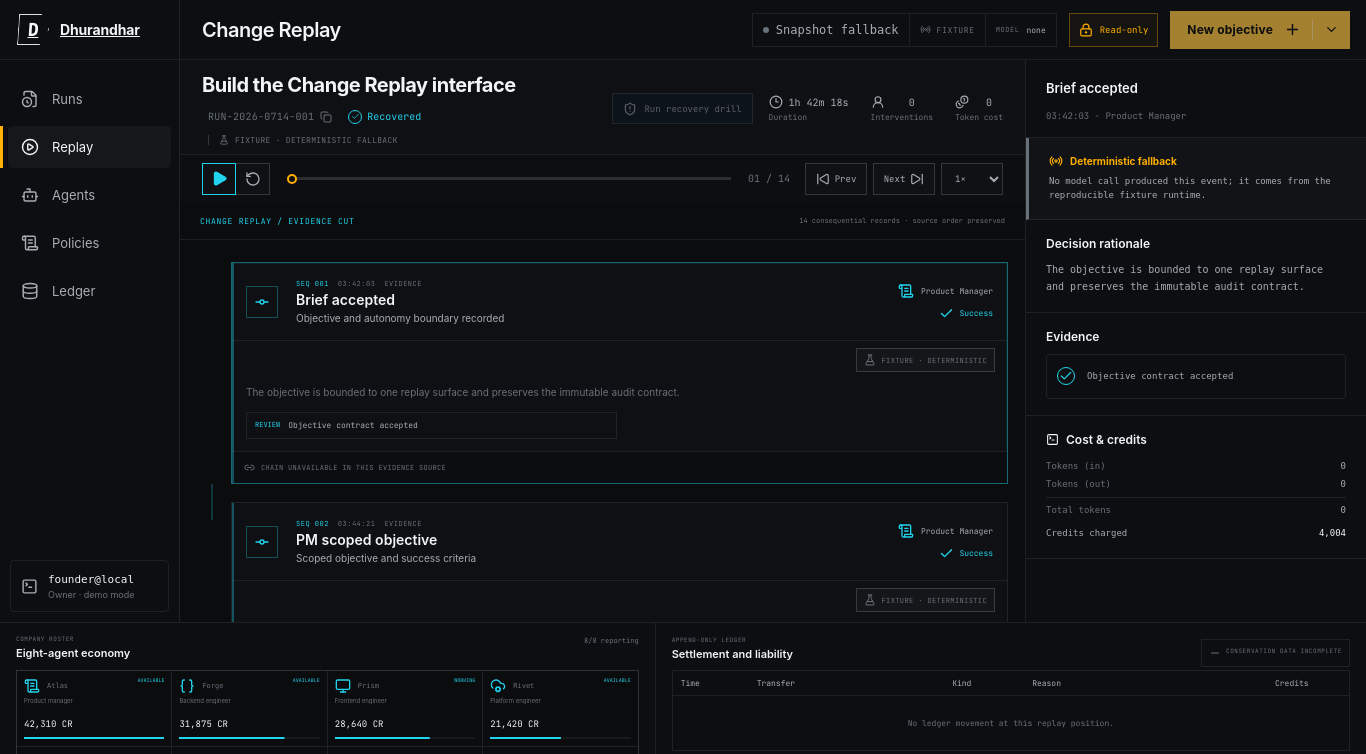
Test case: Dhurandhar replay › shows the complete eight-agent company with capabilities and learned memory
Click the button "Agents". click: (90, 195)
box: top-left (8, 174), bottom-right (171, 216)
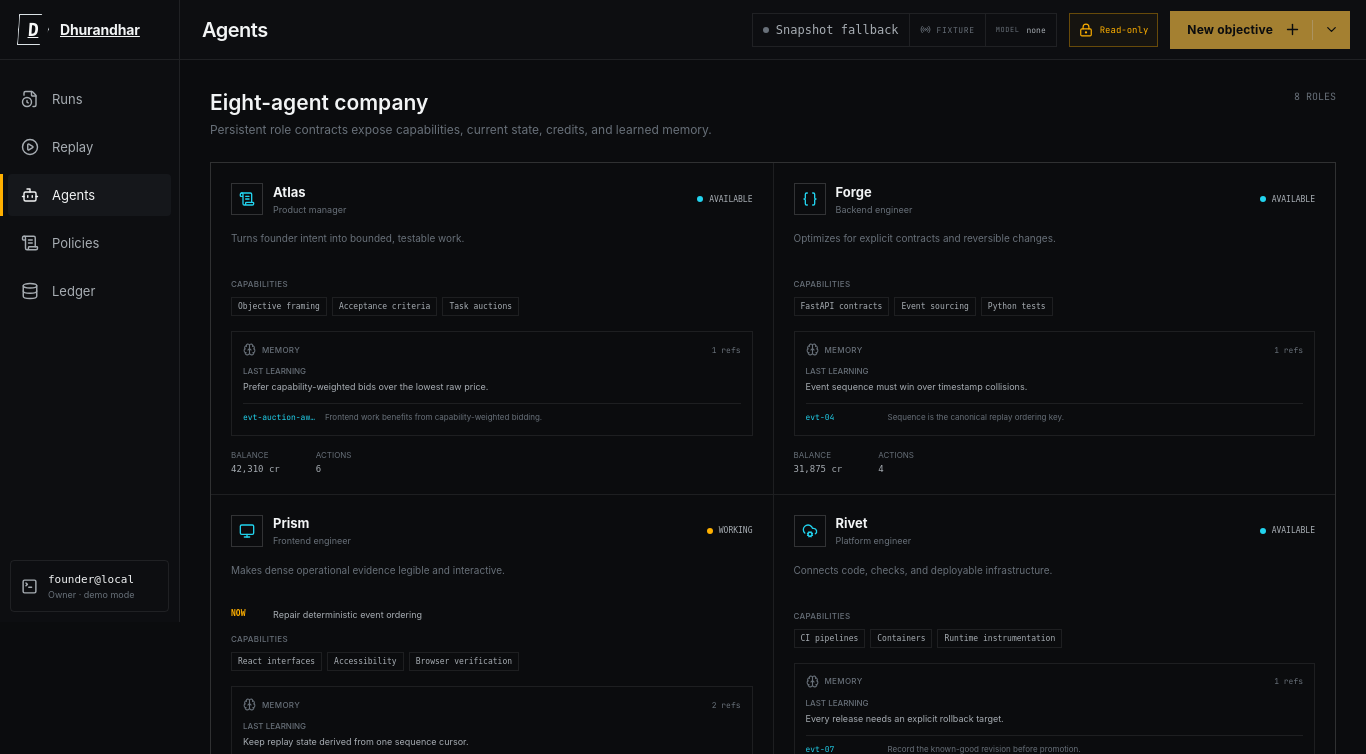
Check: the heading "Eight-agent company" is shown, box top-left (210, 90), bottom-right (428, 115)
Check: the list item "Browser verification" is shown, box top-left (409, 652), bottom-right (519, 671)
Check: the text "Keep replay state derived from one sequence cursor." is shown, box top-left (243, 736), bottom-right (468, 747)
